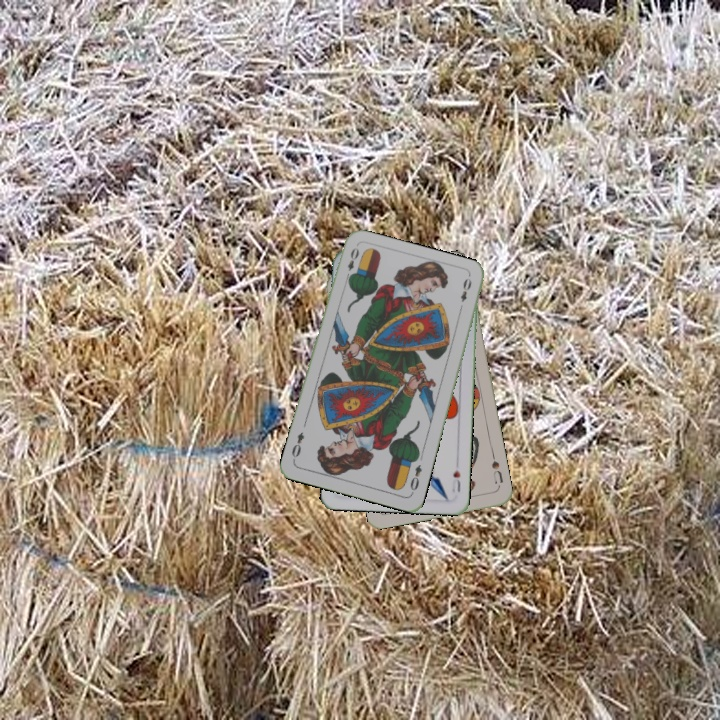EO: (342, 243, 362, 283), (406, 461, 425, 496)
HU: (448, 466, 463, 495)
SU: (487, 457, 506, 486)
